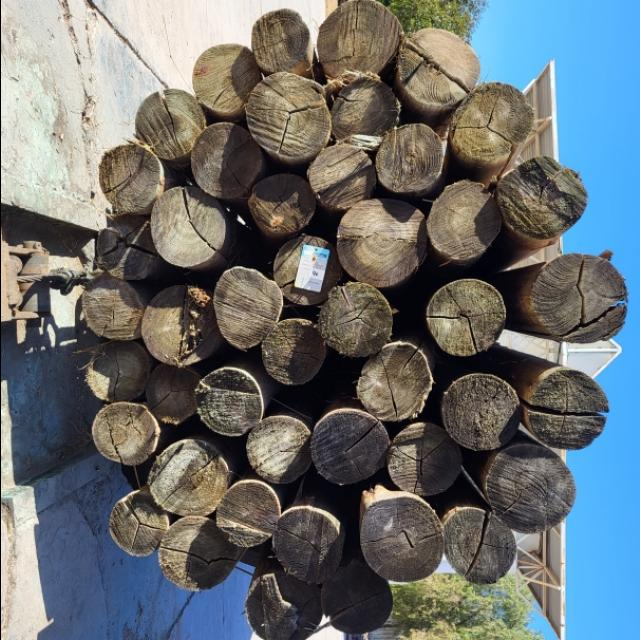package: (84, 0, 626, 640)
